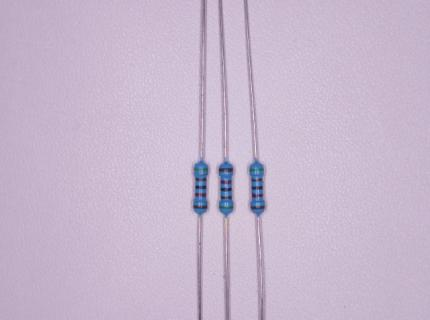Black band: (195, 185, 206, 189), (252, 186, 263, 190), (221, 188, 231, 192)
Brown band: (193, 205, 207, 209), (219, 168, 233, 172), (221, 195, 232, 199), (196, 177, 206, 181), (251, 206, 264, 209), (251, 179, 262, 182)
Green band: (219, 206, 233, 209), (194, 168, 207, 171), (250, 169, 264, 171)
Red band: (252, 193, 264, 197), (220, 180, 231, 184), (195, 193, 206, 197)
